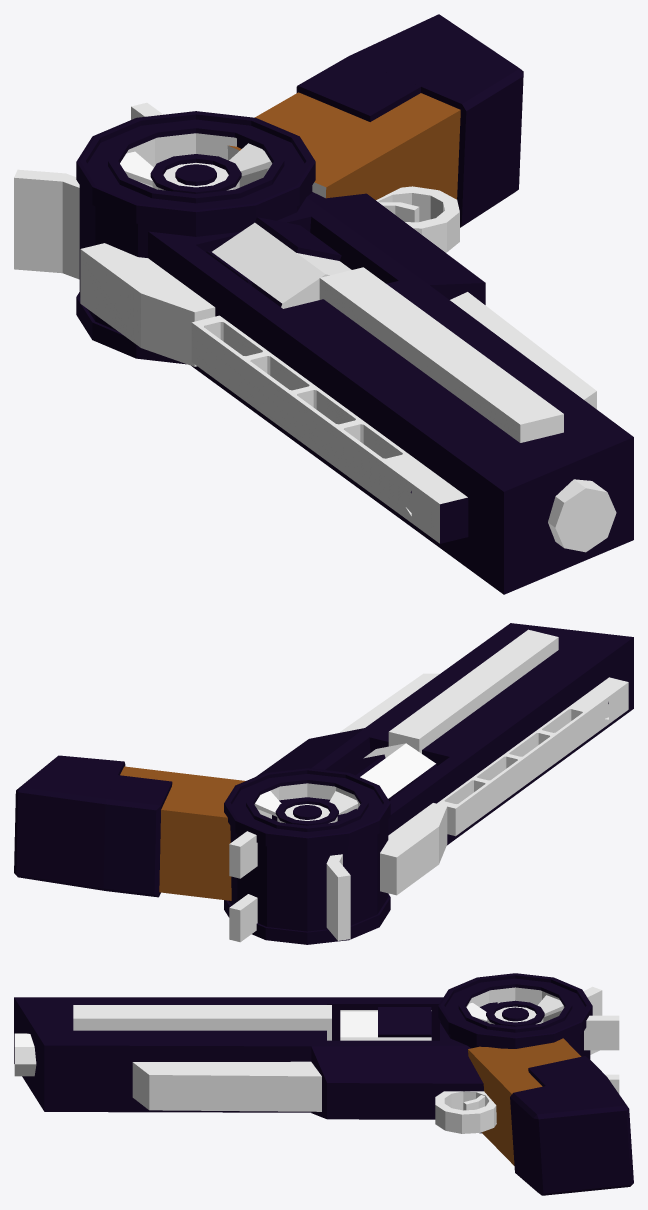
Rendered from RevolverZERO.fbx.
3 renders of one model, top to bottom at view 1: azimuth 30°, elevation 25°; view 2: azimuth 150°, elevation 25°; view 3: azimuth 270°, elevation 25°, orthographic. The views are drawn at different scales.
Visible parts, largest first — view 1: Cube.005; view 2: Cube.005; view 3: Cube.005.
Boxes of the visible parts, bbox=[...] form: Cube.005: bbox=[14, 14, 633, 594]; Cube.005: bbox=[14, 623, 633, 944]; Cube.005: bbox=[14, 973, 633, 1195].
Size of the model in its own units: 107 by 34.58 by 190.
